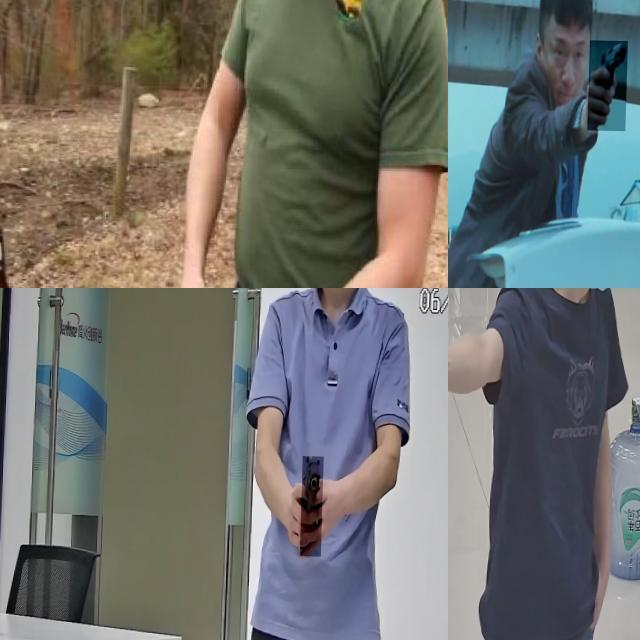gun-knife-thesis - v11 Yolov5 augmented: (588, 39, 630, 130), (448, 293, 472, 404), (301, 455, 325, 555)
